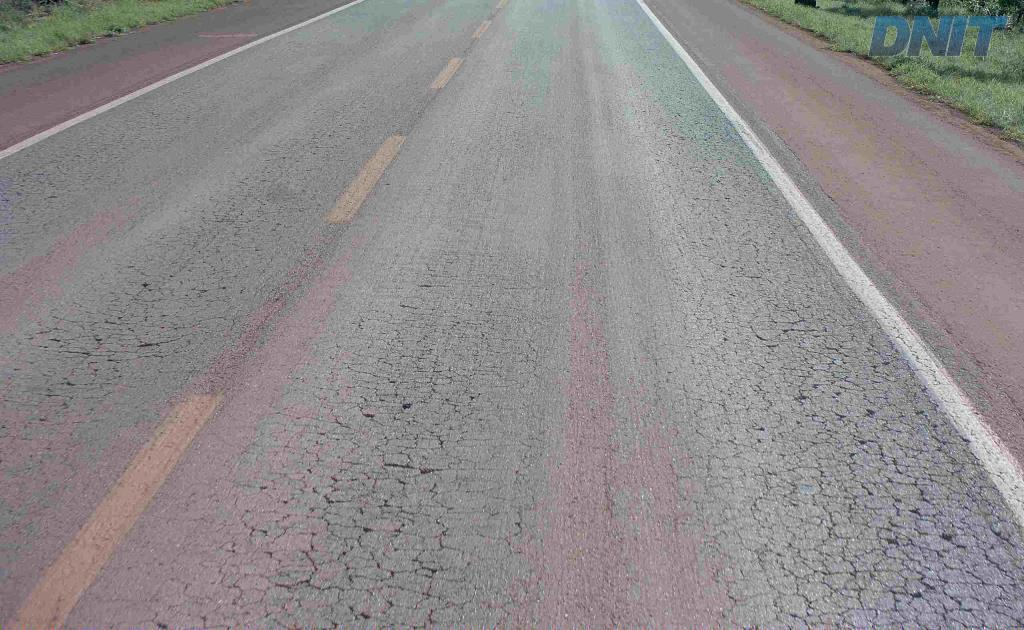crack: (896, 382, 1023, 617), (363, 539, 456, 598), (274, 541, 367, 598), (896, 477, 967, 551), (876, 516, 965, 575), (877, 558, 953, 621), (374, 499, 430, 540)
